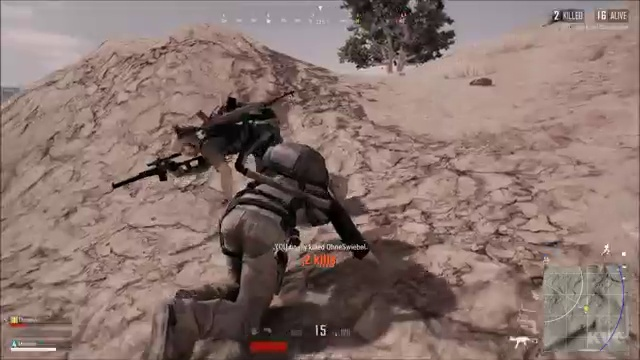Player: (142, 102, 256, 182)
